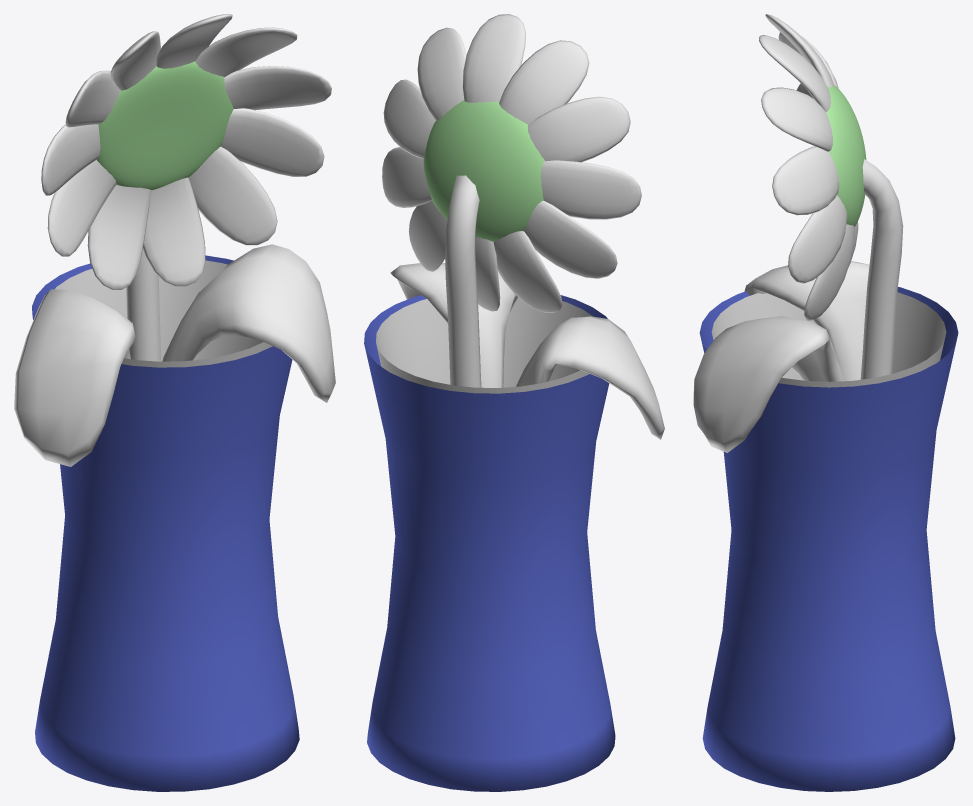
The model's file is Flower_Lack.fbx.
The picture shows the model from 3 angles, left to right: view 1: azimuth 30°, elevation 25°; view 2: azimuth 150°, elevation 25°; view 3: azimuth 270°, elevation 25°; orthographic projection. The views are drawn at different scales.
Visible parts, largest first — view 1: FlowerVase_Lack, FlowerHead_Lack, FlowerLeafs_Lack, FlowerNeck_Lack; view 2: FlowerVase_Lack, FlowerHead_Lack, FlowerLeafs_Lack, FlowerNeck_Lack; view 3: FlowerVase_Lack, FlowerHead_Lack, FlowerLeafs_Lack, FlowerNeck_Lack.
Part boxes in pixels (box(x1,y1,x2,y2)): FlowerVase_Lack: box(32, 255, 299, 791); FlowerHead_Lack: box(41, 14, 331, 290); FlowerLeafs_Lack: box(14, 244, 335, 466); FlowerNeck_Lack: box(126, 248, 160, 361); FlowerVase_Lack: box(364, 295, 615, 791); FlowerHead_Lack: box(382, 14, 641, 312); FlowerLeafs_Lack: box(390, 263, 664, 439); FlowerNeck_Lack: box(445, 175, 481, 387); FlowerVase_Lack: box(699, 287, 958, 791); FlowerHead_Lack: box(759, 14, 866, 321); FlowerLeafs_Lack: box(693, 261, 869, 452); FlowerNeck_Lack: box(860, 159, 903, 379).
Size of the model in its own units: 0.1433 by 0.3392 by 0.1145.
